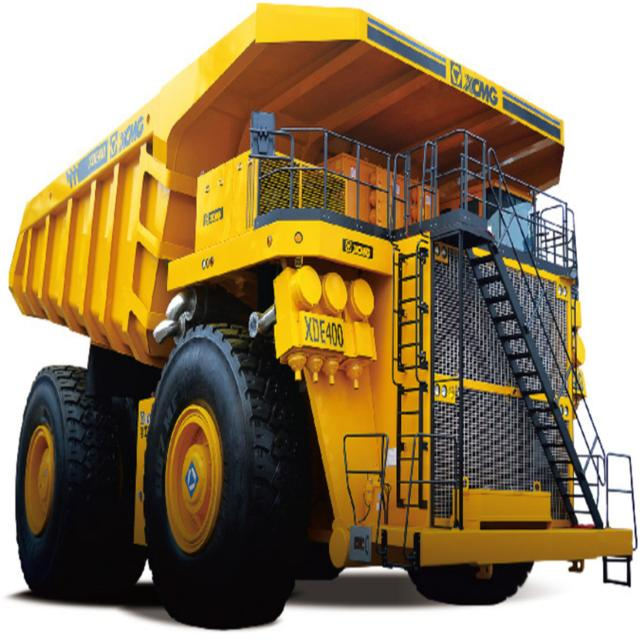dump_truck: (7, 2, 637, 618)
